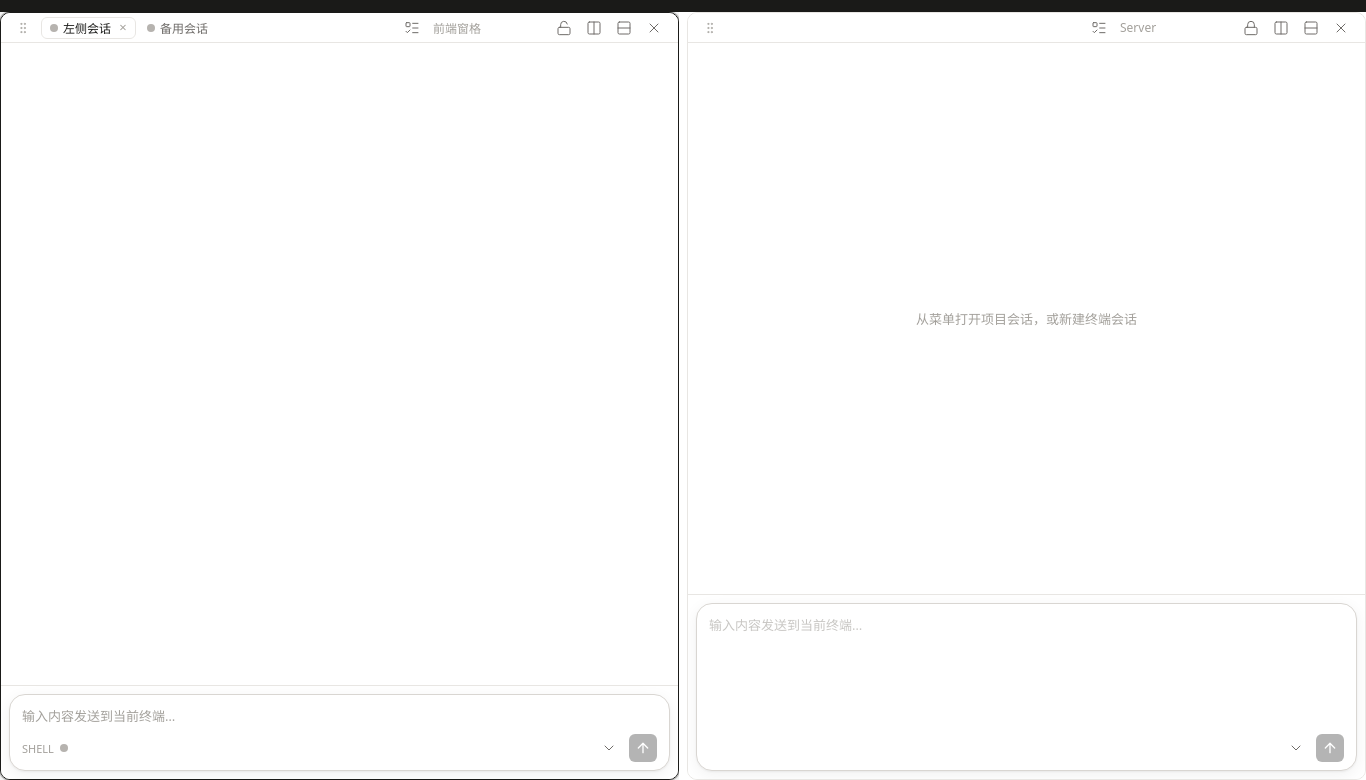
Test: PaneGrid 窗格名称 › 忽略大小写的重复名称原位报错并保持编辑
Double-click the button "前端窗格" at (488, 28), box [428,16,548,38]
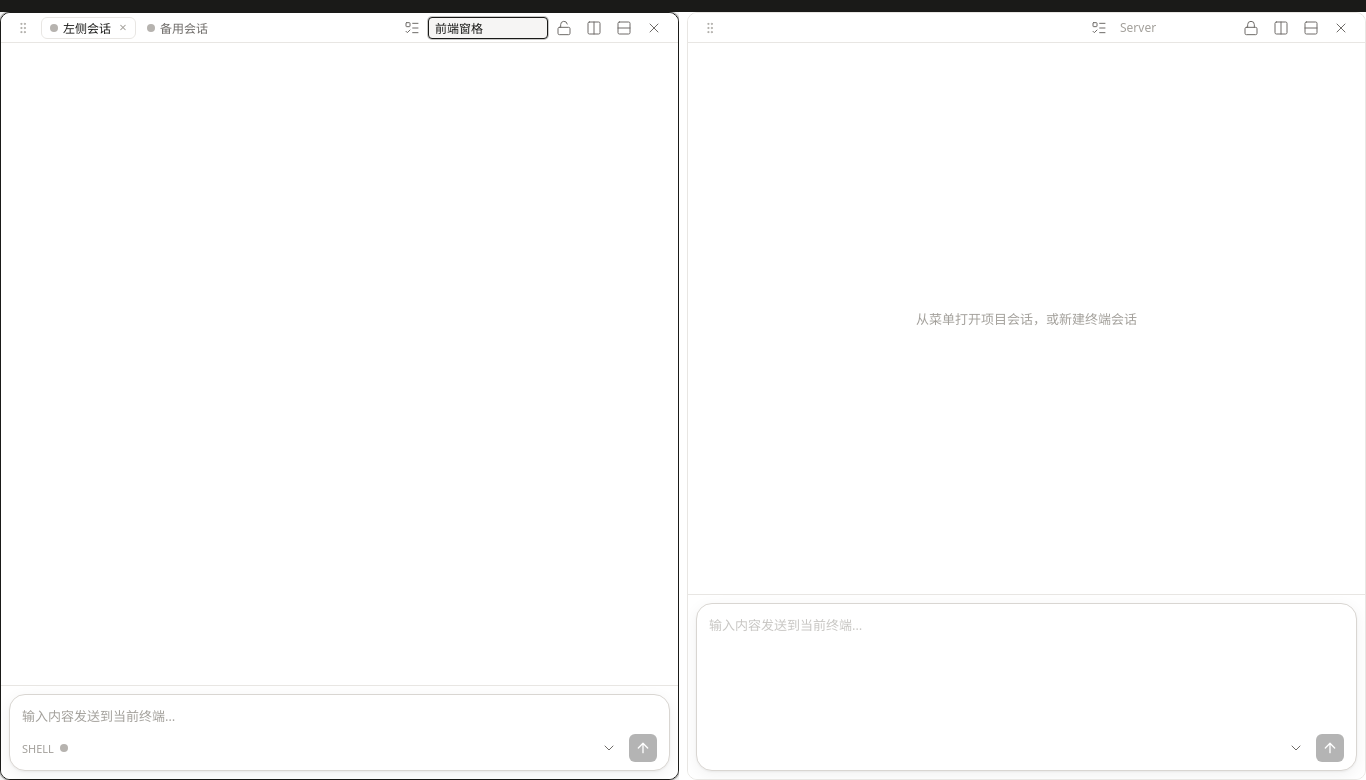
Replace the text in the field named "窗格名称" with "server" at (488, 28), box [428,16,548,38]
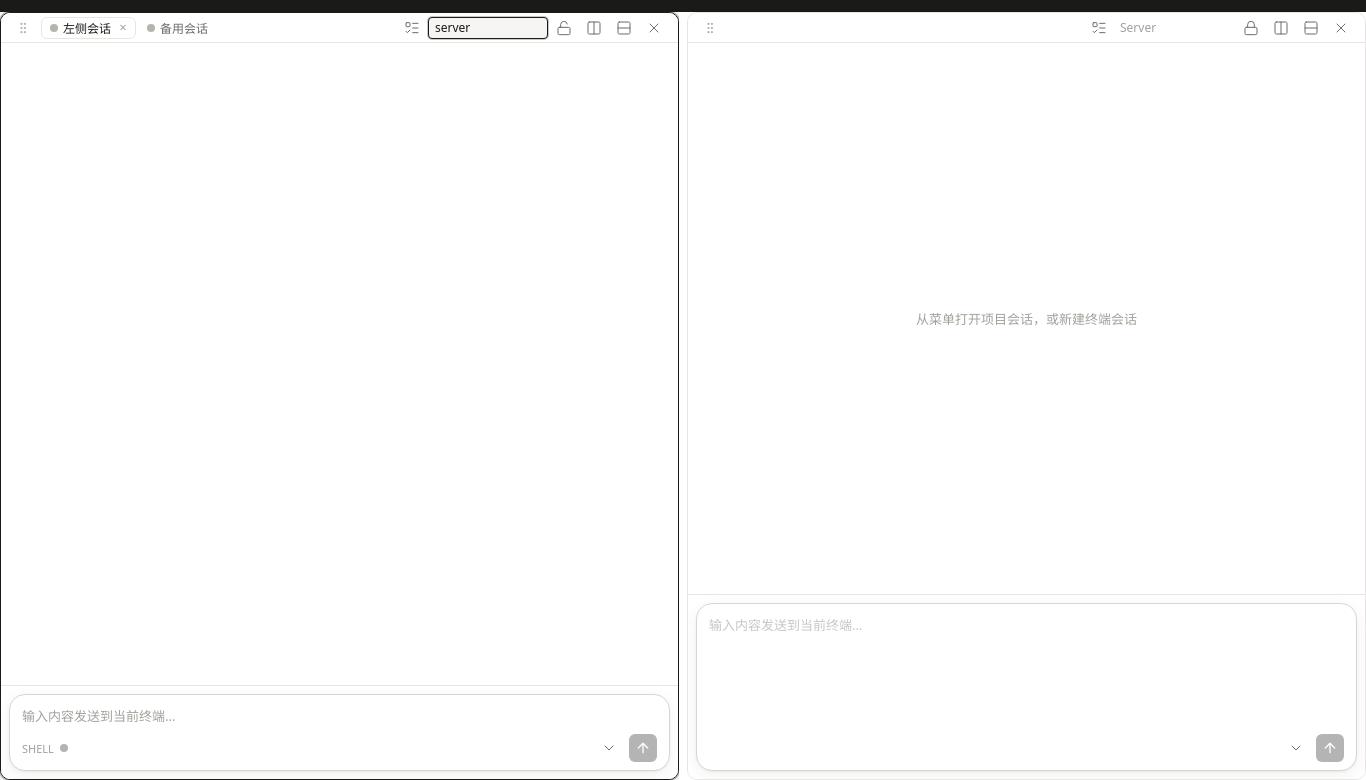
Press Enter in the field named "窗格名称", box [428,16,548,38]
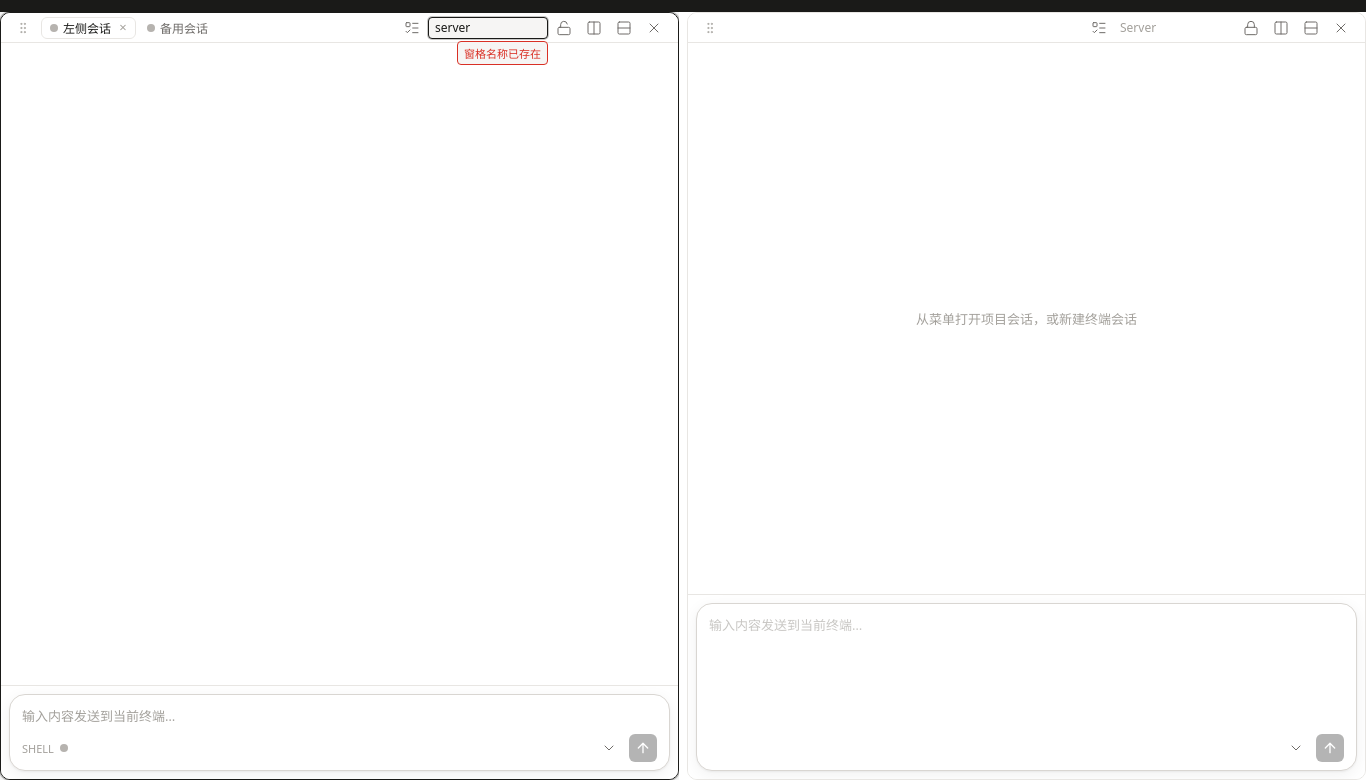
Check: the message reads "窗格名称已存在", box [464,46,541,60]
